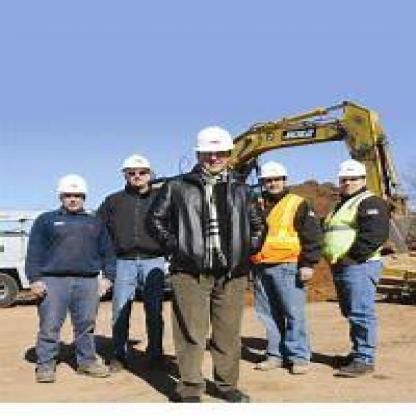person: (168, 109, 246, 394), (19, 166, 112, 381), (240, 151, 323, 391), (318, 153, 395, 376), (114, 149, 164, 381)
